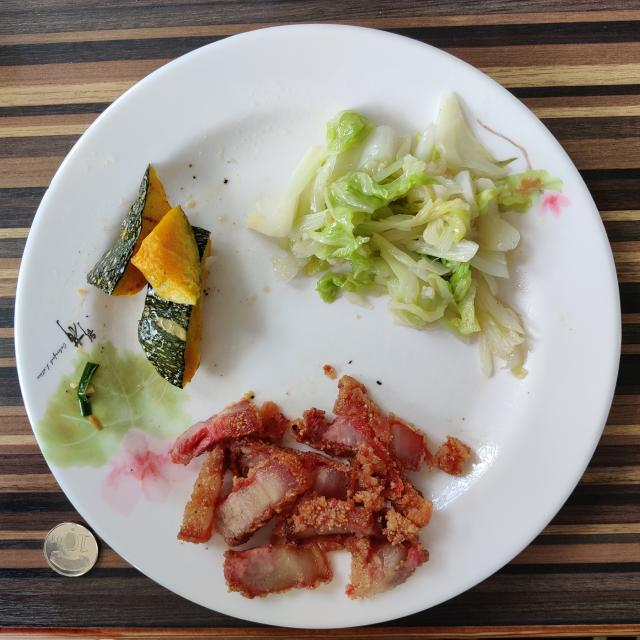cabbage: (248, 92, 561, 379)
coin: (44, 522, 99, 576)
pumpkin: (88, 166, 210, 388)
red grilled pork: (170, 376, 469, 599)
